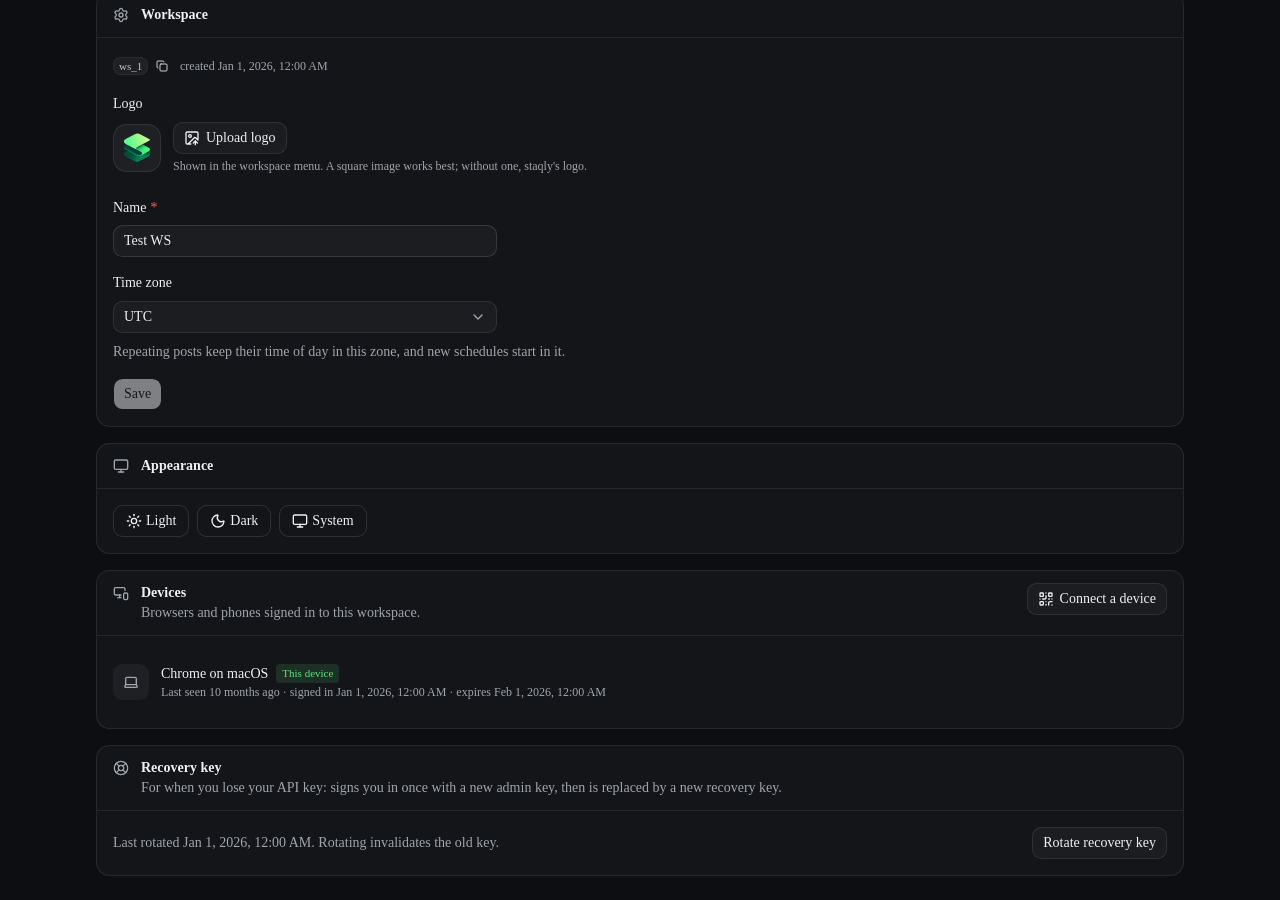
Test: settings › cloud mode lists sessions and can rotate the recovery key
The image size is (1280, 900).
(page scrolled)
Expected: the text "Chrome on macOS" is shown, [161,664,268,684]
Click the button "Rotate recovery key".
click(1100, 842)  # box [1032,826,1167,858]
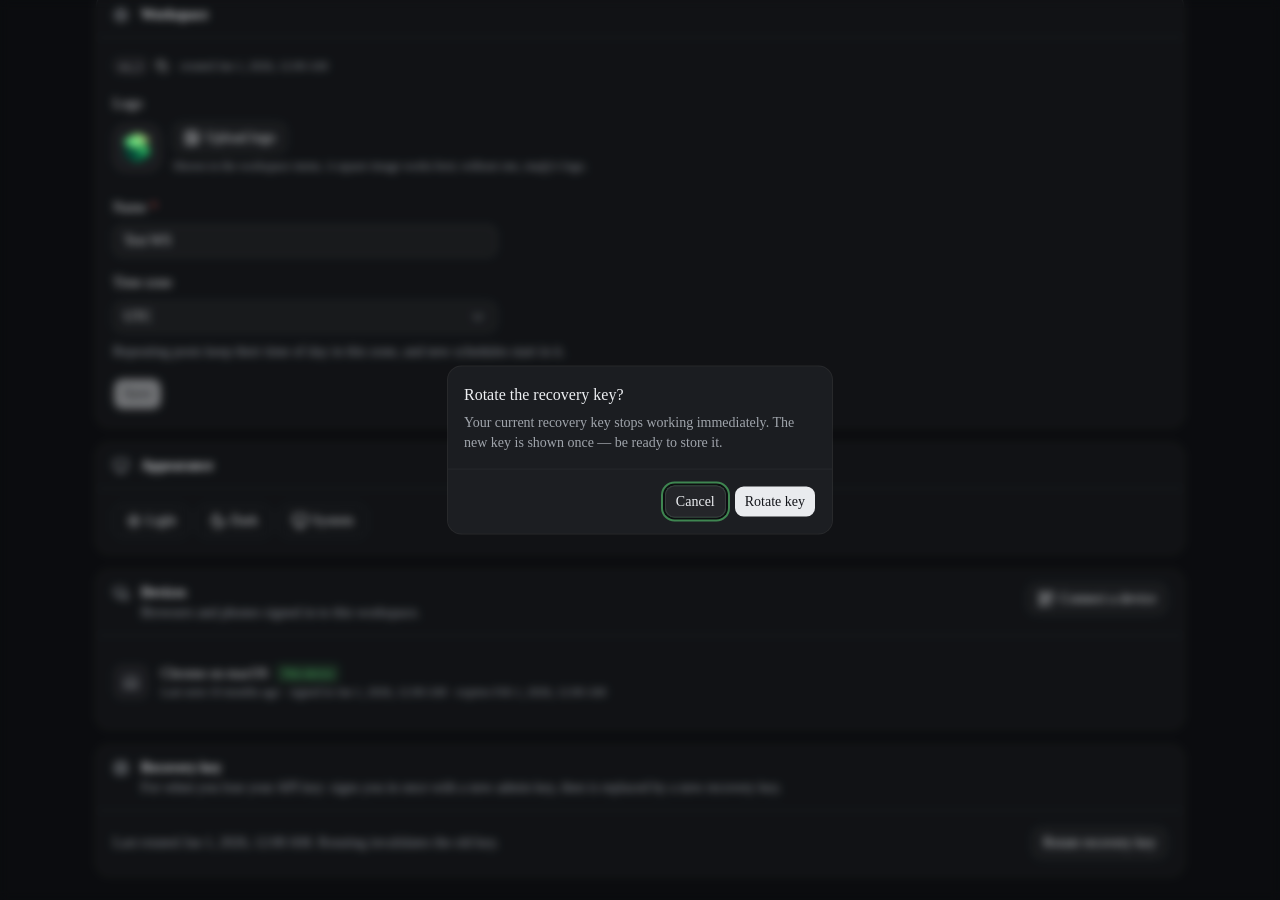
Click the button "Rotate key".
click(775, 502)  # box [734,486,816,518]
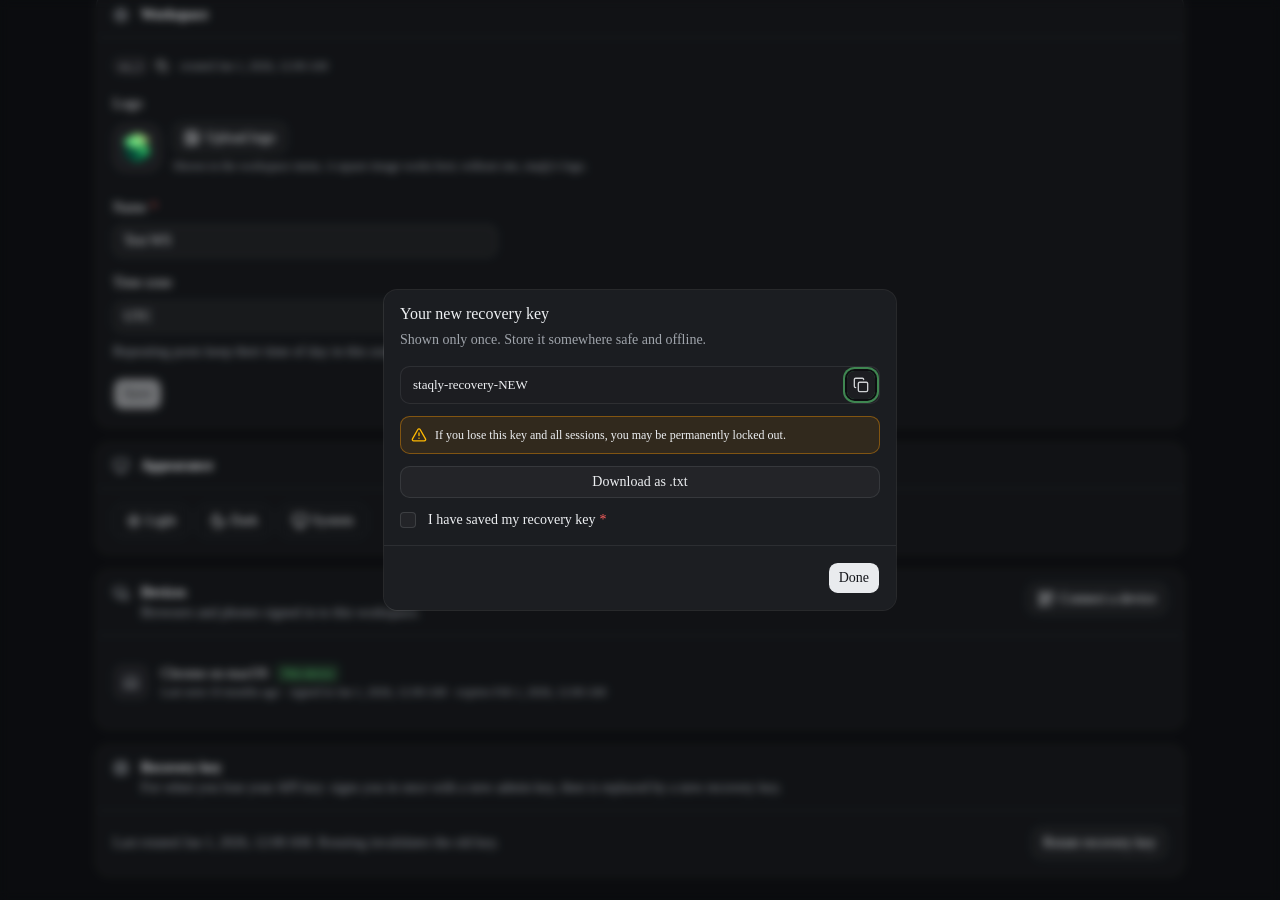
Expected: the text "staqly-recovery-NEW" is shown, [413,377,528,392]
Click the button "Done".
click(854, 578)  # box [828,562,880,594]
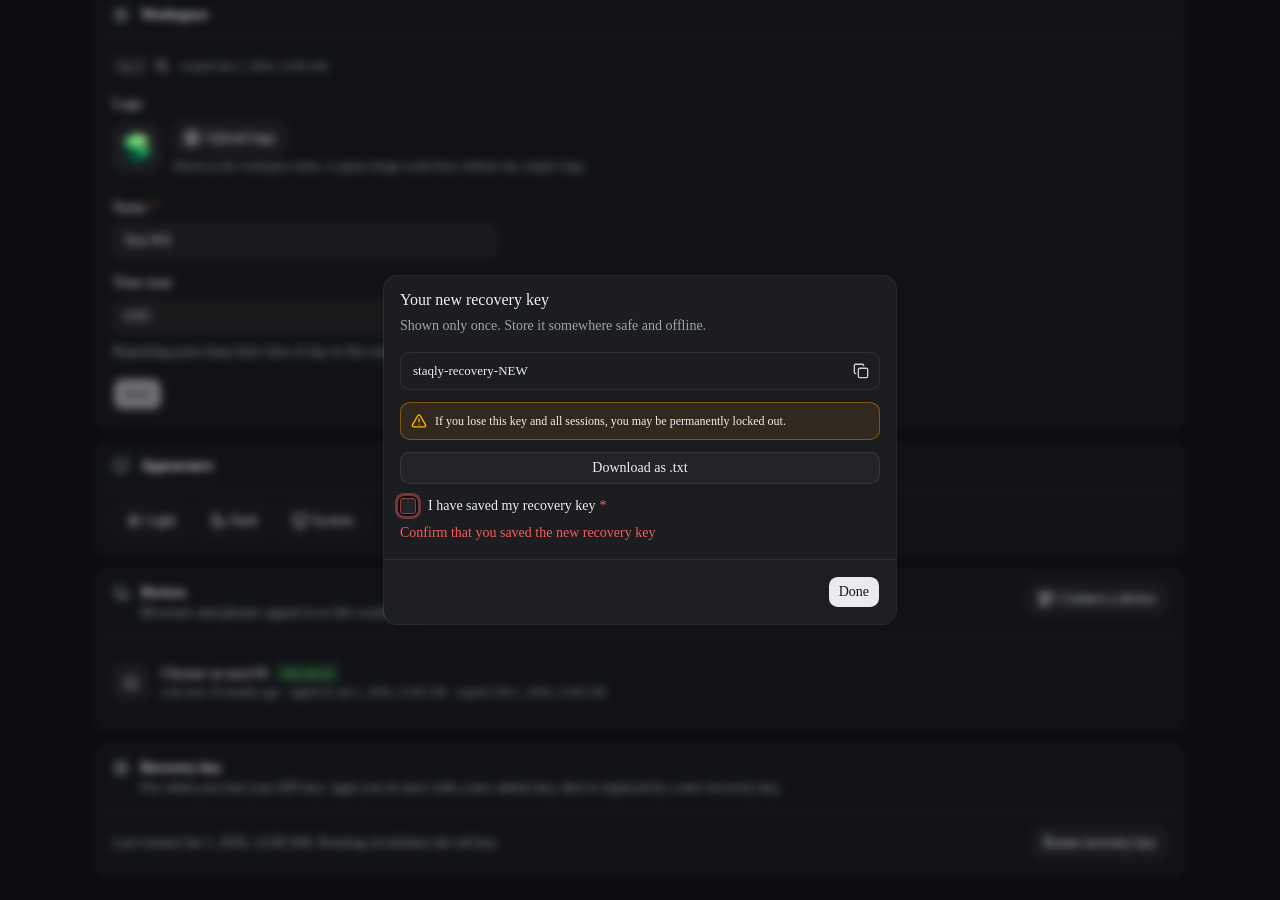
Expected: the message reads "Confirm that you saved the new recovery key", [400,525,655,540]
Click the checkbox.
click(408, 506)  # box [400,498,416,514]
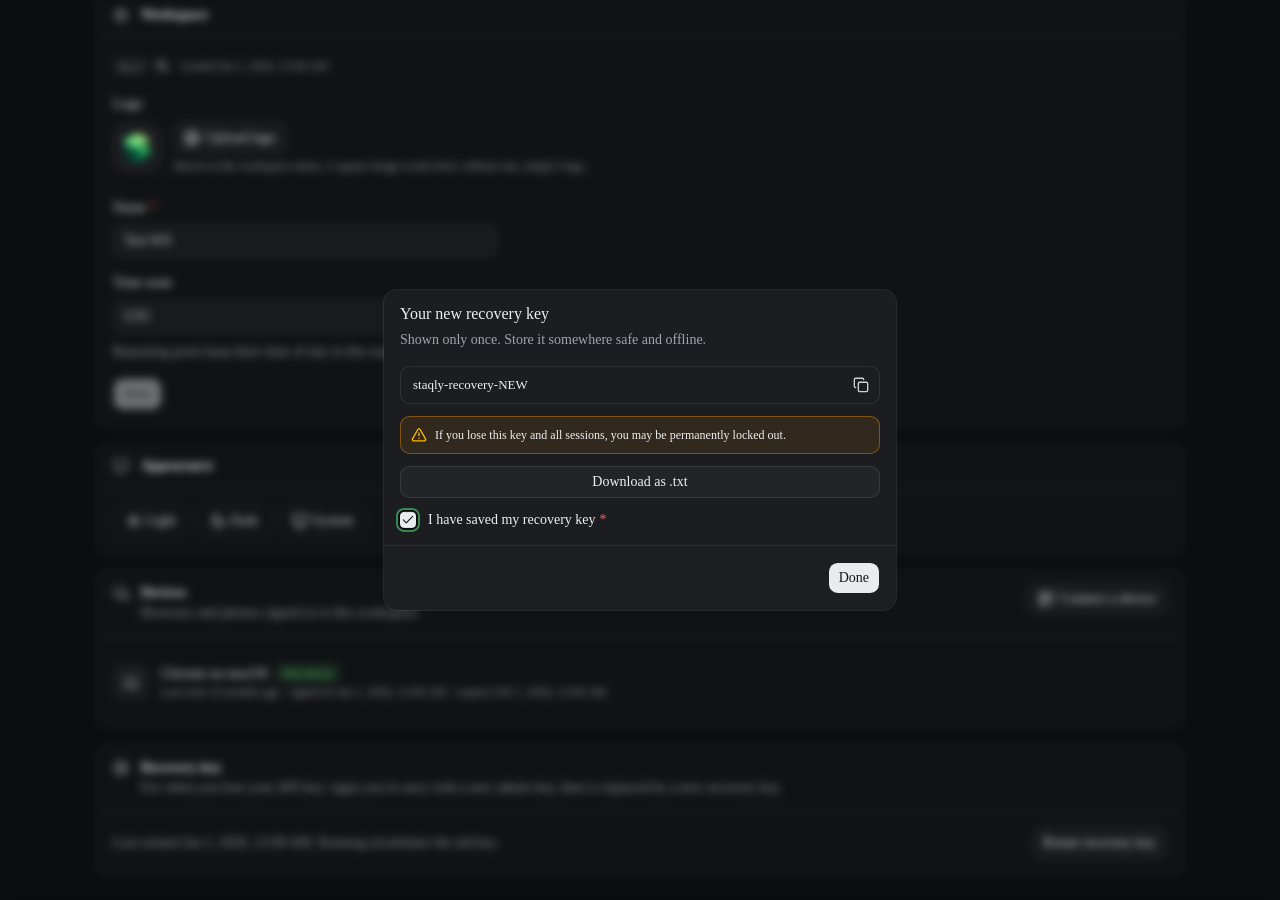
Expected: the message "Confirm that you saved the new recovery key" is gone
Click the button "Done".
click(854, 578)  # box [828,562,880,594]
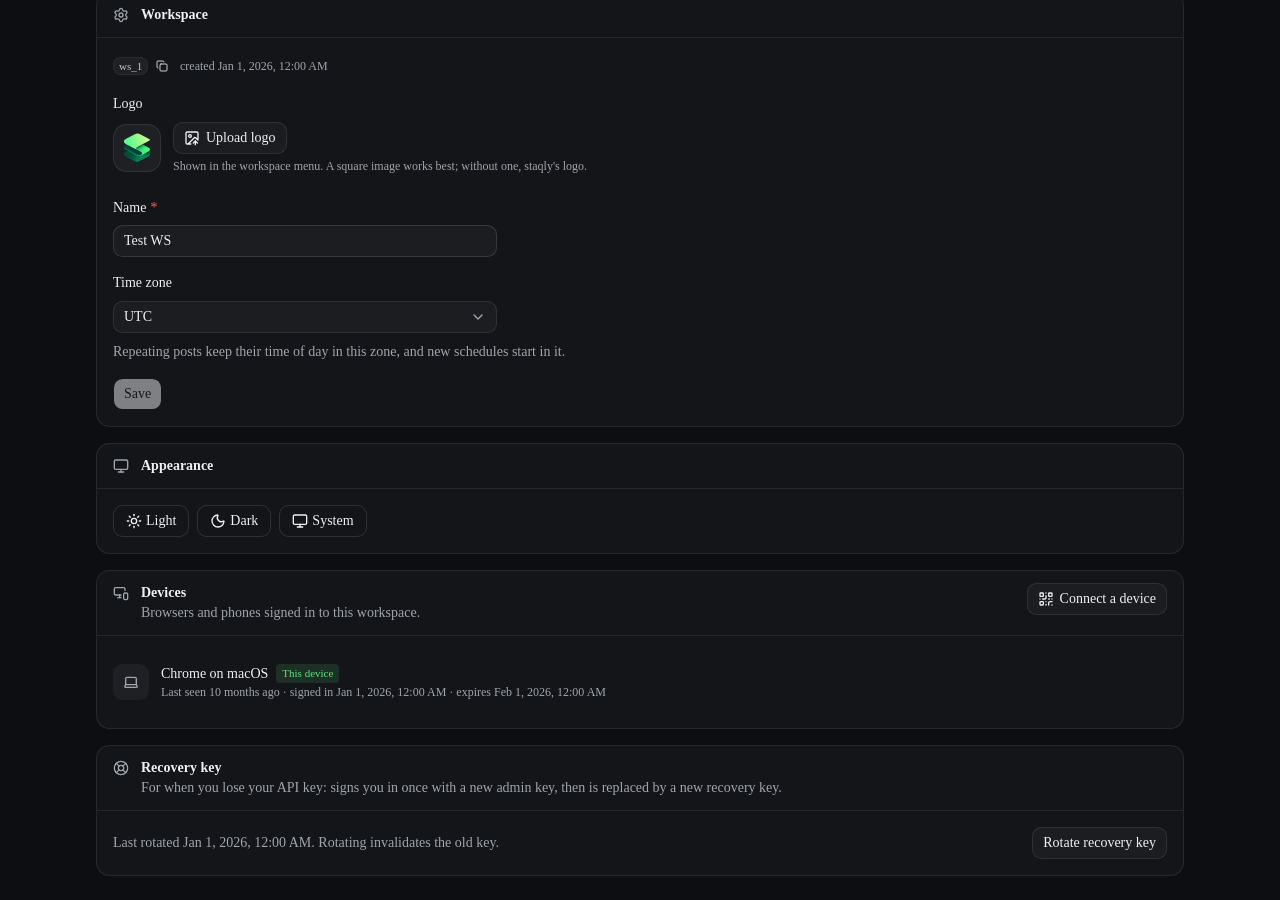
Expected: the heading "Your new recovery key" is gone
